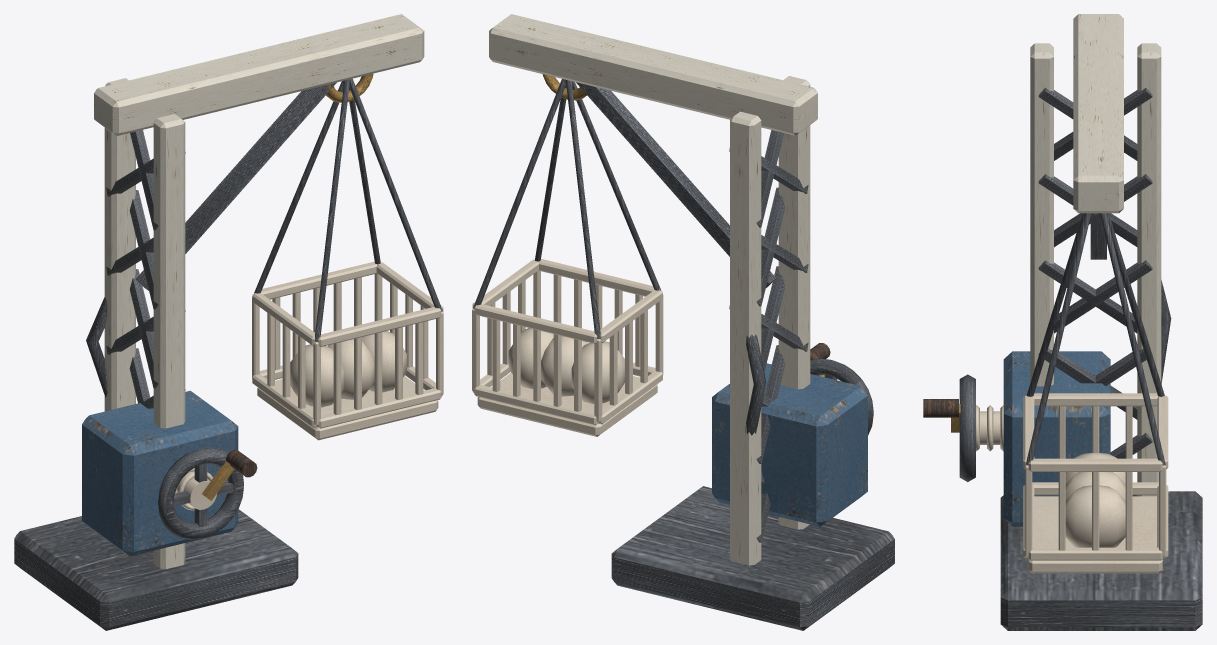
File: revised-04-02.glb
3 views of the same model, side by side, from view 1: azimuth 30°, elevation 25°; view 2: azimuth 150°, elevation 25°; view 3: azimuth 270°, elevation 25° (orthographic). The views are drawn at different scales.
Parts seen in each view (by area): view 1: kite_dock; view 2: kite_dock; view 3: kite_dock.
Part boxes in pixels (x1,y1,x2,y2): kite_dock: [14, 14, 443, 630]; kite_dock: [472, 14, 894, 630]; kite_dock: [923, 14, 1202, 630].
Bounding box in the file's own units: 1.51 × 2 × 0.94.
2 materials, 2 textured.
